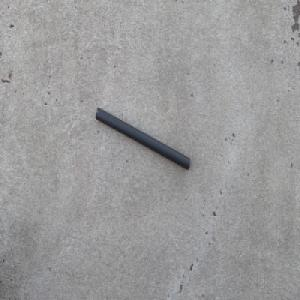LuggagePart: (94, 106, 190, 171)
